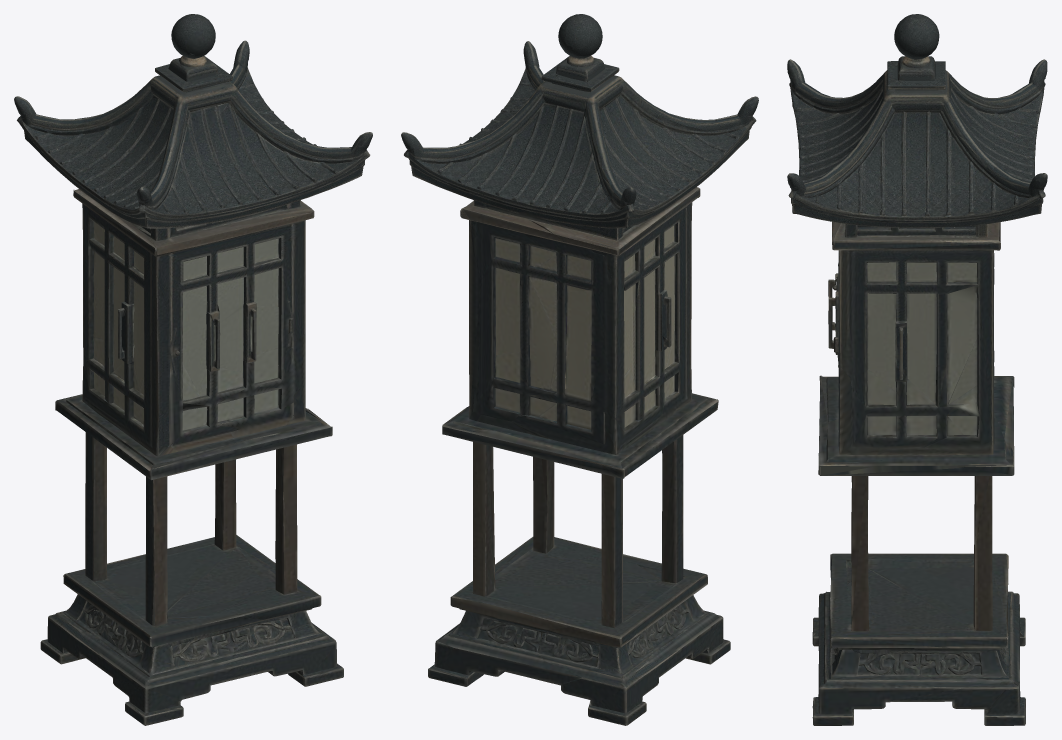
File: bronze-lantern-v1.glb
3 views of the same model, side by side, from view 1: azimuth 30°, elevation 25°; view 2: azimuth 150°, elevation 25°; view 3: azimuth 270°, elevation 25° (orthographic). The views are drawn at different scales.
Size of the model in its own units: 0.7168 by 1.9 by 0.6797.
Materials: 1 (1 with a texture image).
